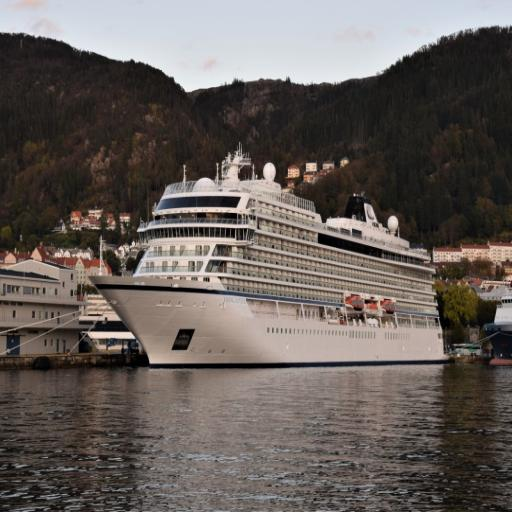cruises: (91, 135, 457, 381)
